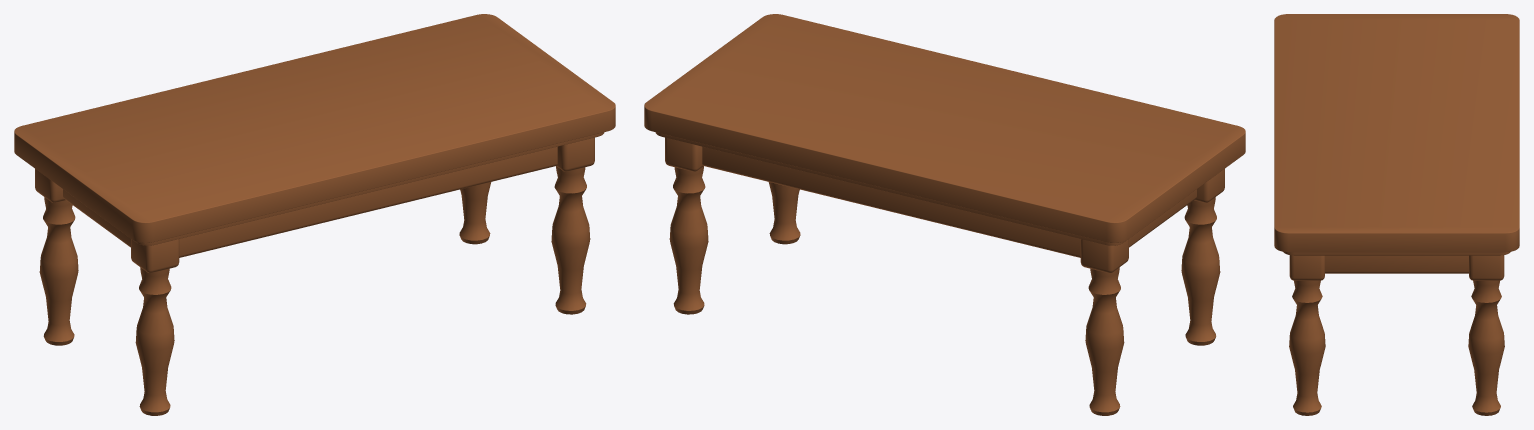
Rendered from mesa_centro_pes_torneados_marrom.glb.
3 views of the same model, side by side, from view 1: azimuth 30°, elevation 25°; view 2: azimuth 150°, elevation 25°; view 3: azimuth 270°, elevation 25° (orthographic). The views are drawn at different scales.
Visible parts, largest first — view 1: mesa_centro_pes_torneados_marrom; view 2: mesa_centro_pes_torneados_marrom; view 3: mesa_centro_pes_torneados_marrom.
Part boxes in pixels (bbox=[...]): mesa_centro_pes_torneados_marrom: bbox=[14, 14, 615, 415]; mesa_centro_pes_torneados_marrom: bbox=[644, 14, 1245, 415]; mesa_centro_pes_torneados_marrom: bbox=[1274, 14, 1519, 415].
Bounding box in the file's own units: 1.1 × 0.45 × 0.52.
Materials: 1 (1 with a texture image).
